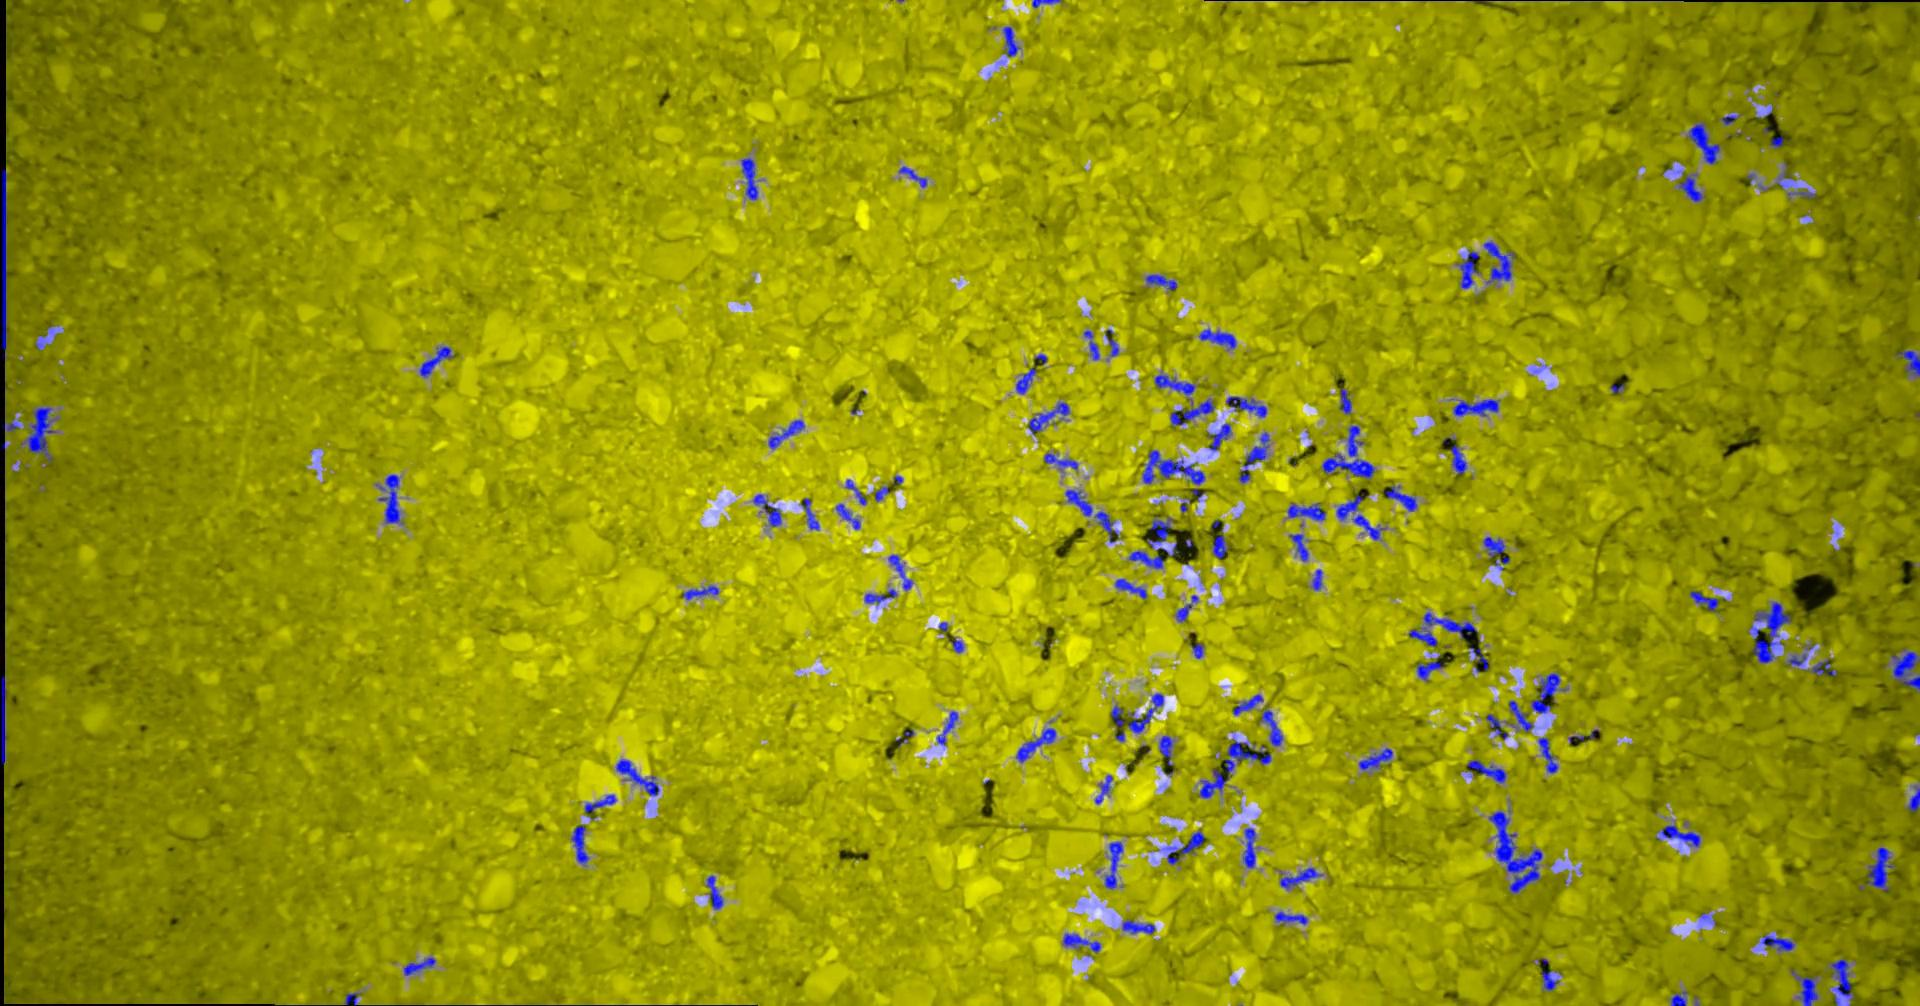ant: (1201, 739, 1272, 798), (1324, 426, 1377, 478), (1751, 601, 1792, 662), (1144, 450, 1206, 484), (1239, 432, 1271, 481), (617, 760, 660, 795), (29, 406, 57, 461), (1423, 612, 1479, 639), (1129, 694, 1164, 732), (1533, 673, 1567, 713), (1017, 727, 1057, 761), (1148, 516, 1181, 556), (1484, 241, 1516, 283), (1868, 846, 1897, 890), (1030, 401, 1070, 433), (1168, 831, 1206, 864), (1690, 123, 1721, 163), (1172, 398, 1215, 424), (422, 345, 455, 377), (1832, 959, 1855, 1005), (380, 474, 401, 522), (770, 419, 805, 448), (1156, 373, 1196, 399), (1893, 652, 1920, 688), (1793, 969, 1820, 1005), (1281, 868, 1324, 889), (889, 554, 914, 589), (1468, 760, 1507, 782), (756, 494, 783, 526), (1484, 536, 1511, 569), (1227, 396, 1269, 417), (1385, 485, 1418, 511), (1106, 841, 1124, 888), (1661, 826, 1702, 846), (1454, 399, 1500, 417), (585, 794, 617, 819), (1354, 514, 1387, 539), (1262, 709, 1284, 746), (1510, 700, 1535, 730), (1200, 328, 1237, 348), (1539, 737, 1559, 774), (1418, 654, 1448, 680), (1096, 511, 1119, 542), (1462, 251, 1481, 288), (571, 826, 590, 862), (938, 711, 959, 746), (1360, 748, 1394, 768), (743, 158, 759, 199), (1067, 489, 1093, 514), (1289, 502, 1327, 520), (1065, 934, 1102, 951), (1017, 361, 1037, 392), (1338, 494, 1364, 520), (1116, 578, 1148, 598), (1680, 174, 1704, 201), (1896, 349, 1920, 375), (837, 503, 861, 528), (1130, 550, 1164, 568), (405, 956, 437, 976), (1691, 589, 1719, 611), (1234, 694, 1263, 714), (803, 498, 822, 528), (1210, 423, 1232, 450), (900, 166, 928, 187), (1045, 452, 1079, 469), (1, 674, 8, 763), (1410, 627, 1439, 647), (847, 479, 869, 504), (1487, 714, 1509, 739), (1763, 934, 1796, 950), (1004, 25, 1022, 56), (1291, 533, 1310, 561), (866, 588, 898, 605), (709, 875, 724, 909), (1096, 774, 1114, 803), (1244, 827, 1257, 868), (684, 586, 720, 600), (1112, 705, 1126, 741), (1147, 274, 1178, 290), (1084, 330, 1101, 359), (1451, 445, 1468, 474), (1123, 920, 1157, 934), (1470, 647, 1490, 669), (1276, 911, 1309, 923), (1161, 735, 1175, 765), (1, 412, 22, 431), (1813, 659, 1837, 674), (1107, 329, 1120, 356), (897, 729, 916, 747), (1214, 533, 1228, 558), (1543, 970, 1559, 989), (1341, 387, 1352, 414), (1909, 785, 1920, 810), (1177, 603, 1192, 621), (1032, 0, 1063, 8), (1672, 991, 1689, 1005), (951, 636, 965, 652), (1790, 653, 1807, 666), (1314, 569, 1324, 589), (876, 486, 890, 500), (1771, 135, 1785, 147), (345, 992, 359, 1005), (1192, 643, 1204, 658)
